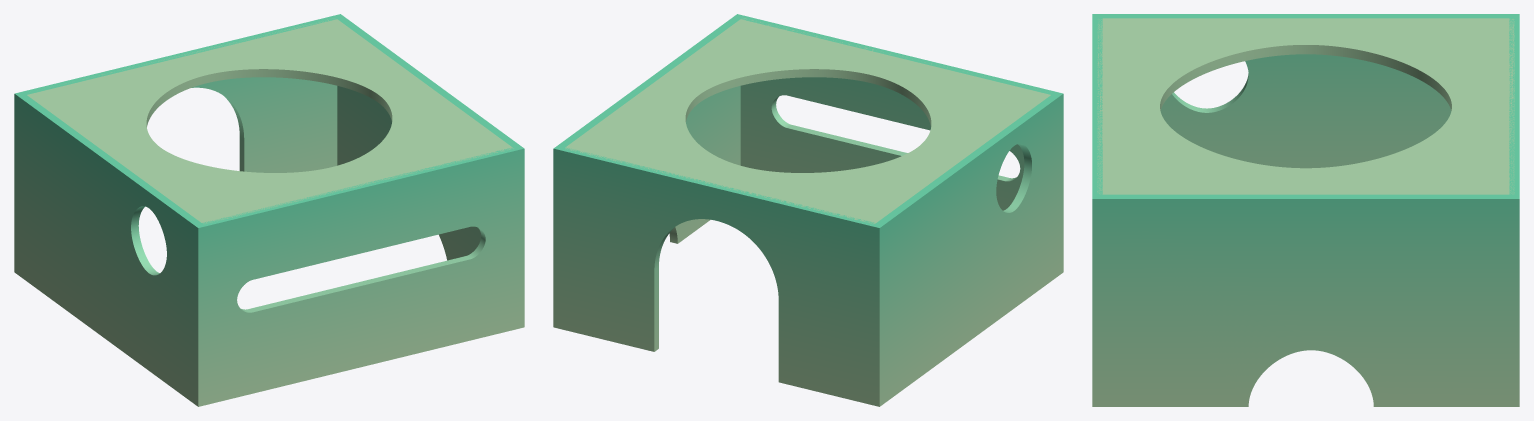
The model's file is wallsandroof-15.glb.
3 renders of one model, left to right at view 1: azimuth 30°, elevation 25°; view 2: azimuth 150°, elevation 25°; view 3: azimuth 270°, elevation 25°, orthographic. The views are drawn at different scales.
Parts seen in each view (by area): view 1: Mesh_1, Mesh_4, Mesh_2, Mesh_0, Mesh_3; view 2: Mesh_0, Mesh_4, Mesh_2, Mesh_1, Mesh_3; view 3: Mesh_3, Mesh_4, Mesh_2, Mesh_1, Mesh_0.
Part boxes in pixels (<box>): Mesh_1: <box>202,147,516,404</box>; Mesh_4: <box>27,18,513,223</box>; Mesh_2: <box>14,92,205,406</box>; Mesh_0: <box>22,16,337,172</box>; Mesh_3: <box>333,14,524,328</box>; Mesh_0: <box>561,147,875,404</box>; Mesh_4: <box>565,18,1050,223</box>; Mesh_2: <box>872,92,1063,406</box>; Mesh_1: <box>740,16,1055,210</box>; Mesh_3: <box>553,14,744,328</box>; Mesh_3: <box>1092,194,1519,406</box>; Mesh_4: <box>1097,18,1514,194</box>; Mesh_2: <box>1092,14,1519,168</box>; Mesh_1: <box>1092,18,1102,194</box>; Mesh_0: <box>1509,18,1519,194</box>.
Size of the model in its own units: 21 by 11 by 20.5.
